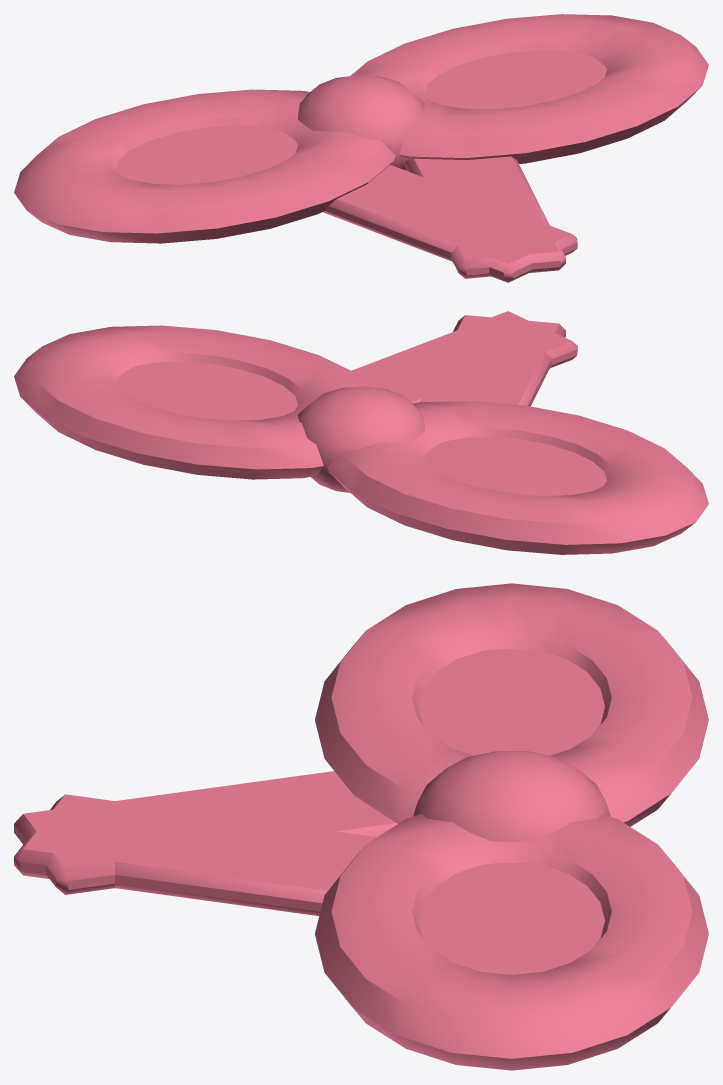
The model's file is bow.glb.
3 views of the same model, one above another, from view 1: azimuth 30°, elevation 25°; view 2: azimuth 150°, elevation 25°; view 3: azimuth 270°, elevation 25° (orthographic). The views are drawn at different scales.
Parts seen in each view (by area): view 1: bow; view 2: bow; view 3: bow.
Part boxes in pixels (left/top/right/bottom): bow: left=14, top=14, right=708, bottom=282; bow: left=14, top=311, right=708, bottom=554; bow: left=14, top=583, right=708, bottom=1070.
Size of the model in its own units: 0.1128 by 0.0147 by 0.0714.
